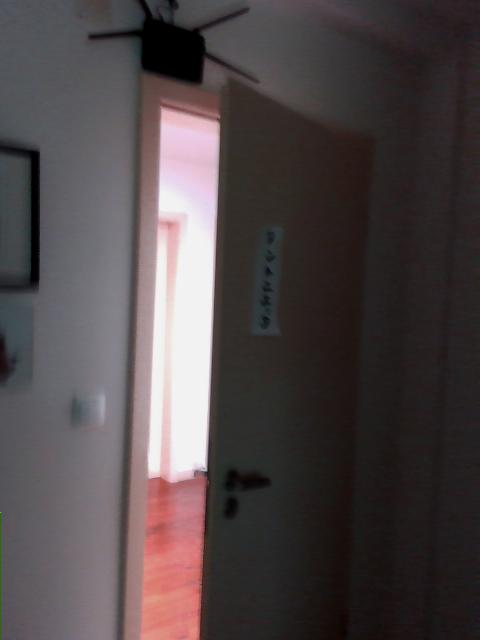semi_door: (120, 65, 371, 639)
